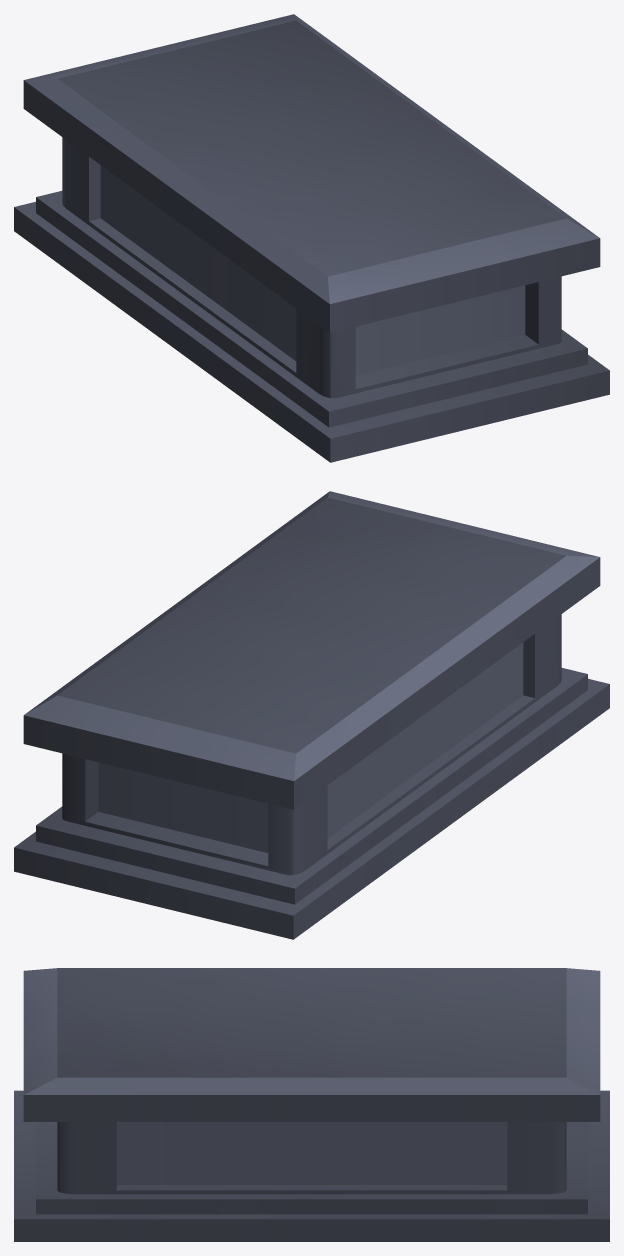
Rendered from Sarcophagus.fbx.
The picture shows the model from 3 angles, top to bottom: view 1: azimuth 30°, elevation 25°; view 2: azimuth 150°, elevation 25°; view 3: azimuth 270°, elevation 25°; orthographic projection. The views are drawn at different scales.
Parts seen in each view (by area): view 1: Cube.001; view 2: Cube.001; view 3: Cube.001.
Part boxes in pixels (bbox=[...]): Cube.001: bbox=[14, 14, 609, 462]; Cube.001: bbox=[14, 491, 609, 939]; Cube.001: bbox=[14, 968, 609, 1241].
Size of the model in its own units: 234 by 132 by 459.
1 material, 1 textured.
